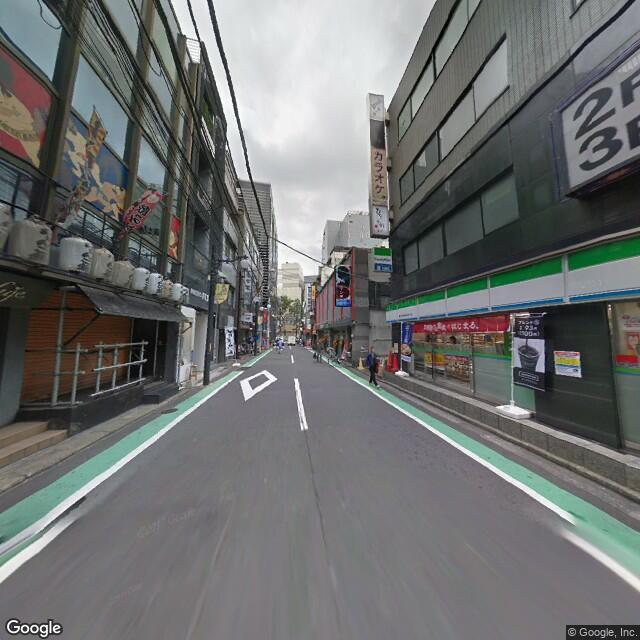family_mart: (385, 231, 639, 329), (371, 245, 394, 276)
